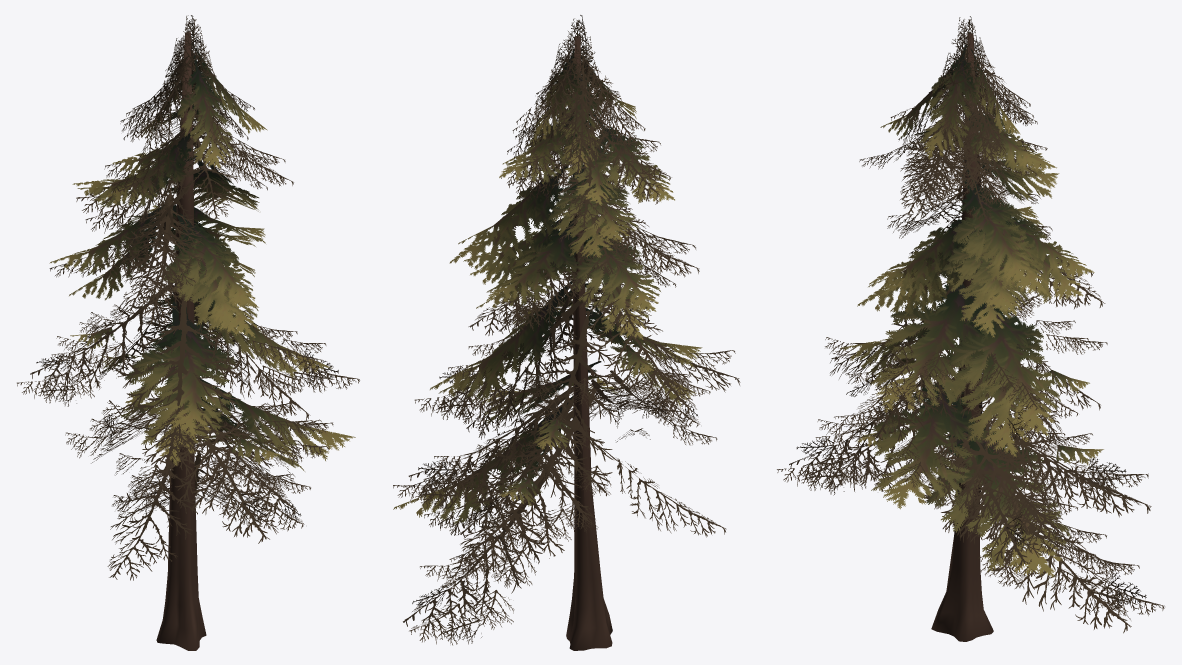
Rendered from Fir_L_dead.fbx.
3 renders of one model, left to right at view 1: azimuth 30°, elevation 25°; view 2: azimuth 150°, elevation 25°; view 3: azimuth 270°, elevation 25°, orthographic.
Parts seen in each view (by area): view 1: polySurface2242; view 2: polySurface2242; view 3: polySurface2242.
Boxes of the visible parts, box(x1,y1,x2,y2) form: polySurface2242: box(17, 15, 359, 650); polySurface2242: box(393, 15, 740, 650); polySurface2242: box(777, 16, 1164, 641).
Bounding box in the file's own units: 458 × 898 × 519.
